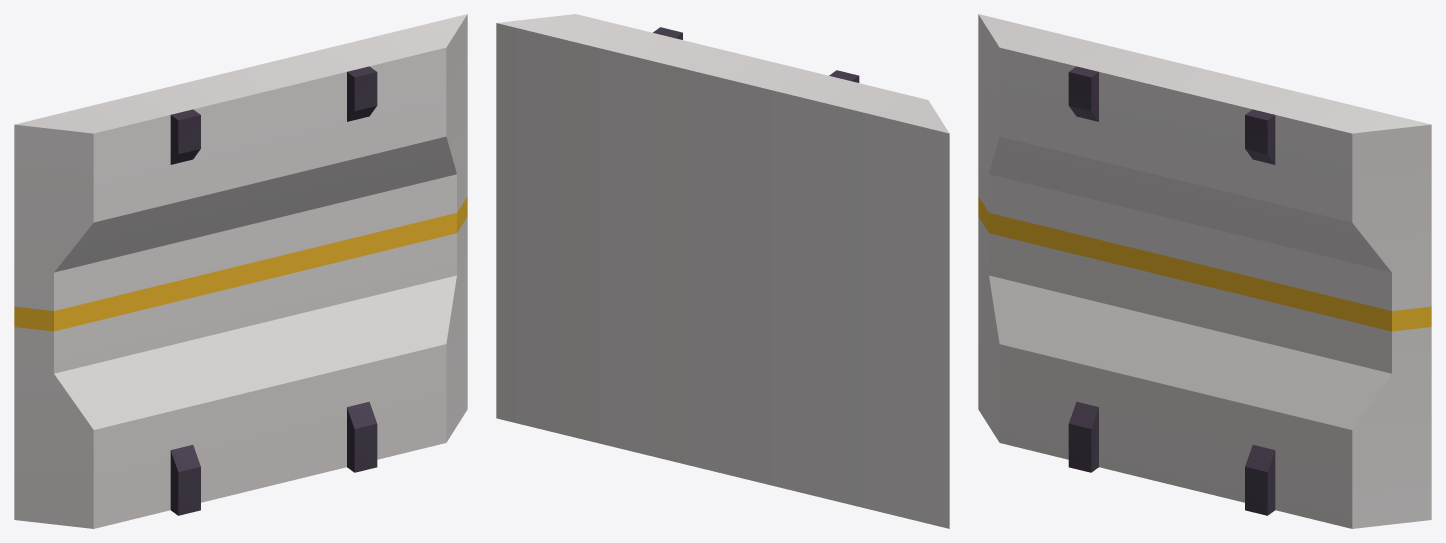
Rendered from Wall.fbx.
3 renders of one model, left to right at view 1: azimuth 30°, elevation 25°; view 2: azimuth 150°, elevation 25°; view 3: azimuth 330°, elevation 25°, orthographic.
Parts seen in each view (by area): view 1: Wall; view 2: Wall; view 3: Wall.
Part boxes in pixels (x1=…): Wall: x1=14, y1=14, x2=467, y2=528; Wall: x1=496, y1=14, x2=949, y2=528; Wall: x1=978, y1=14, x2=1431, y2=528.
Size of the model in its own units: 1800 by 1500 by 253.
